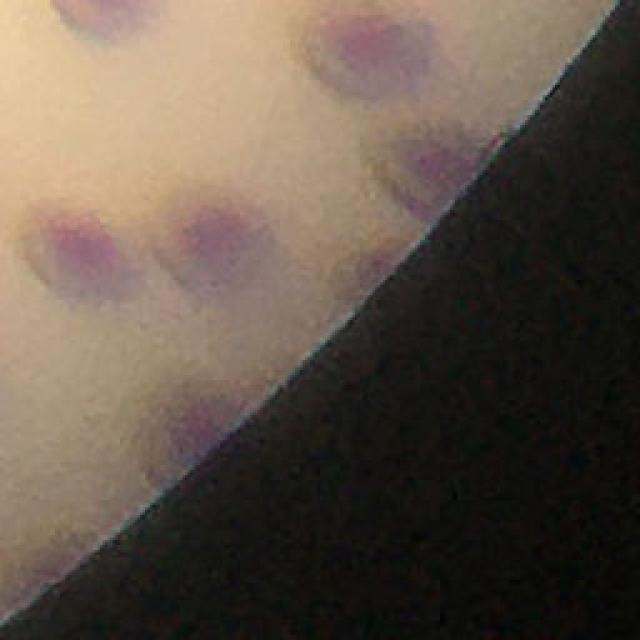RBC: (152, 179, 280, 306), (18, 192, 152, 308), (362, 112, 501, 223), (301, 6, 446, 102)
